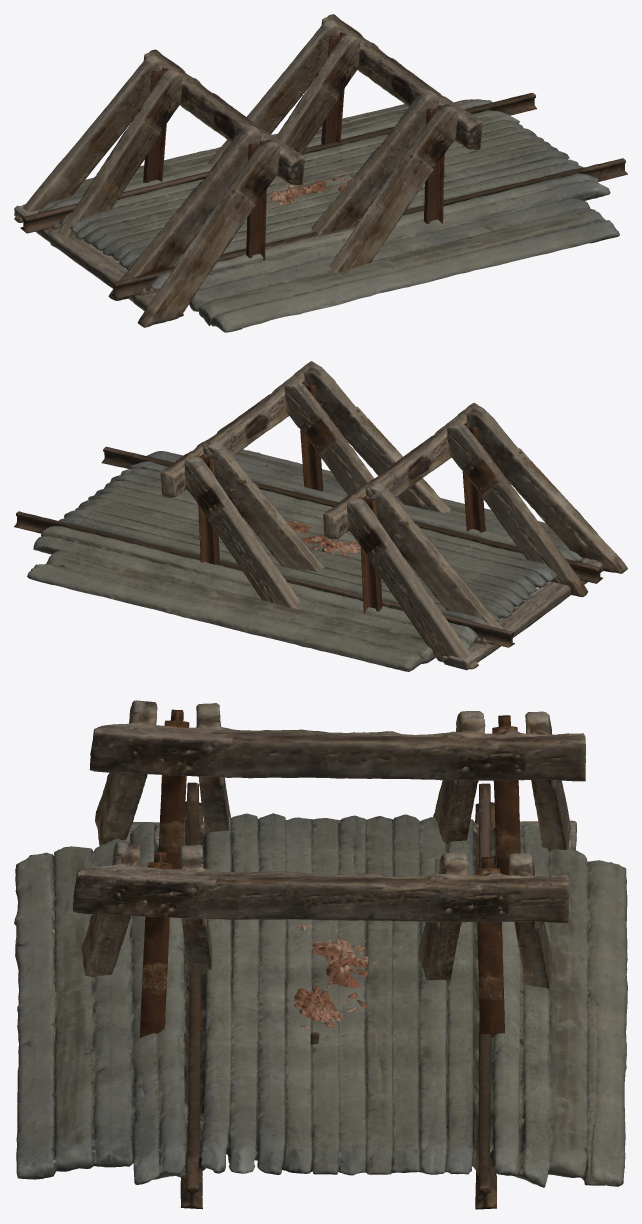
File: MineAlt_Boden.c1e349c5ea.glb
The picture shows the model from 3 angles, top to bottom: view 1: azimuth 30°, elevation 25°; view 2: azimuth 150°, elevation 25°; view 3: azimuth 270°, elevation 25°; orthographic projection. The views are drawn at different scales.
Visible parts, largest first — view 1: verladung, bohlenboden, rampe, geroell_a; view 2: verladung, bohlenboden, rampe, geroell_a; view 3: verladung, bohlenboden, rampe, geroell_a.
Boxes of the visible parts, bbox=[...] form: verladung: bbox=[14, 49, 626, 332]; bohlenboden: bbox=[21, 93, 627, 332]; rampe: bbox=[207, 14, 482, 272]; geroell_a: bbox=[266, 174, 354, 213]; verladung: bbox=[14, 402, 627, 671]; bohlenboden: bbox=[16, 447, 602, 671]; rampe: bbox=[160, 361, 450, 608]; geroell_a: bbox=[286, 515, 360, 562]; verladung: bbox=[14, 700, 627, 1209]; bohlenboden: bbox=[14, 782, 627, 1209]; rampe: bbox=[73, 842, 569, 1037]; geroell_a: bbox=[278, 924, 380, 1029].
Size of the model in its own units: 5 by 1.36 by 3.21.
9 materials, 9 textured.
